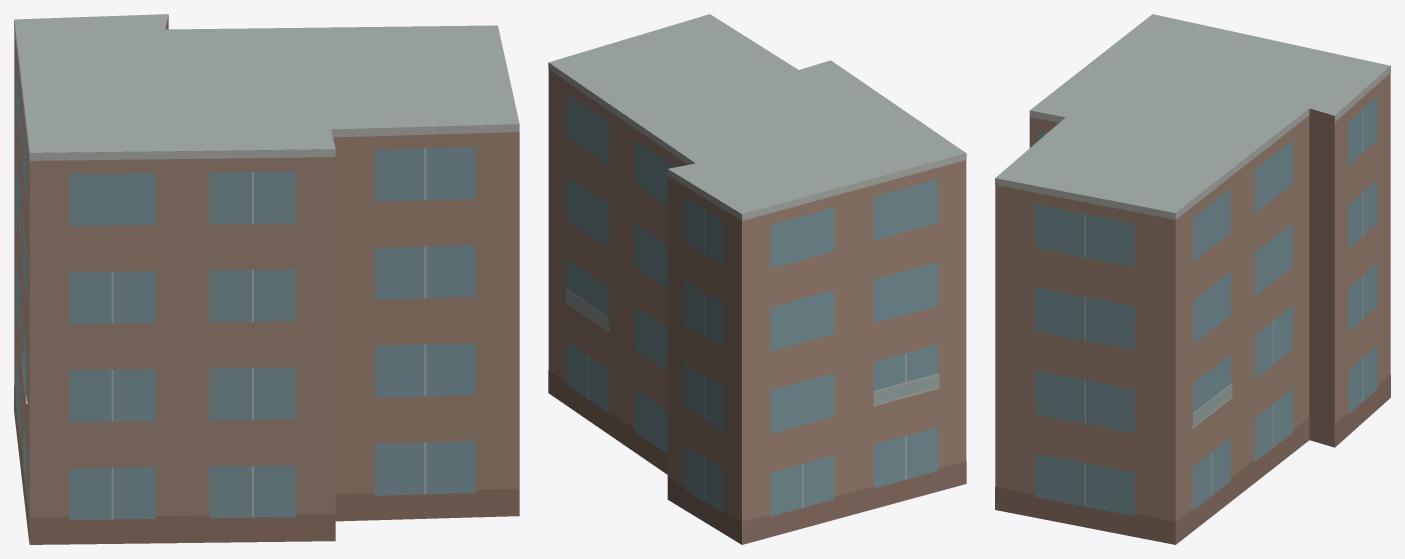
The model's file is survey-upis-32971378.glb.
The picture shows the model from 3 angles, left to right: view 1: azimuth 30°, elevation 25°; view 2: azimuth 150°, elevation 25°; view 3: azimuth 270°, elevation 25°; orthographic projection. The views are drawn at different scales.
Visible parts, largest first — view 1: survey-upis-32971378.tmp; view 2: survey-upis-32971378.tmp; view 3: survey-upis-32971378.tmp.
Boxes of the visible parts, <box> form: survey-upis-32971378.tmp: <box>14,14,519,544</box>; survey-upis-32971378.tmp: <box>548,14,966,544</box>; survey-upis-32971378.tmp: <box>995,14,1390,544</box>.
Bounding box in the file's own units: 15.45 × 12 × 12.98.
